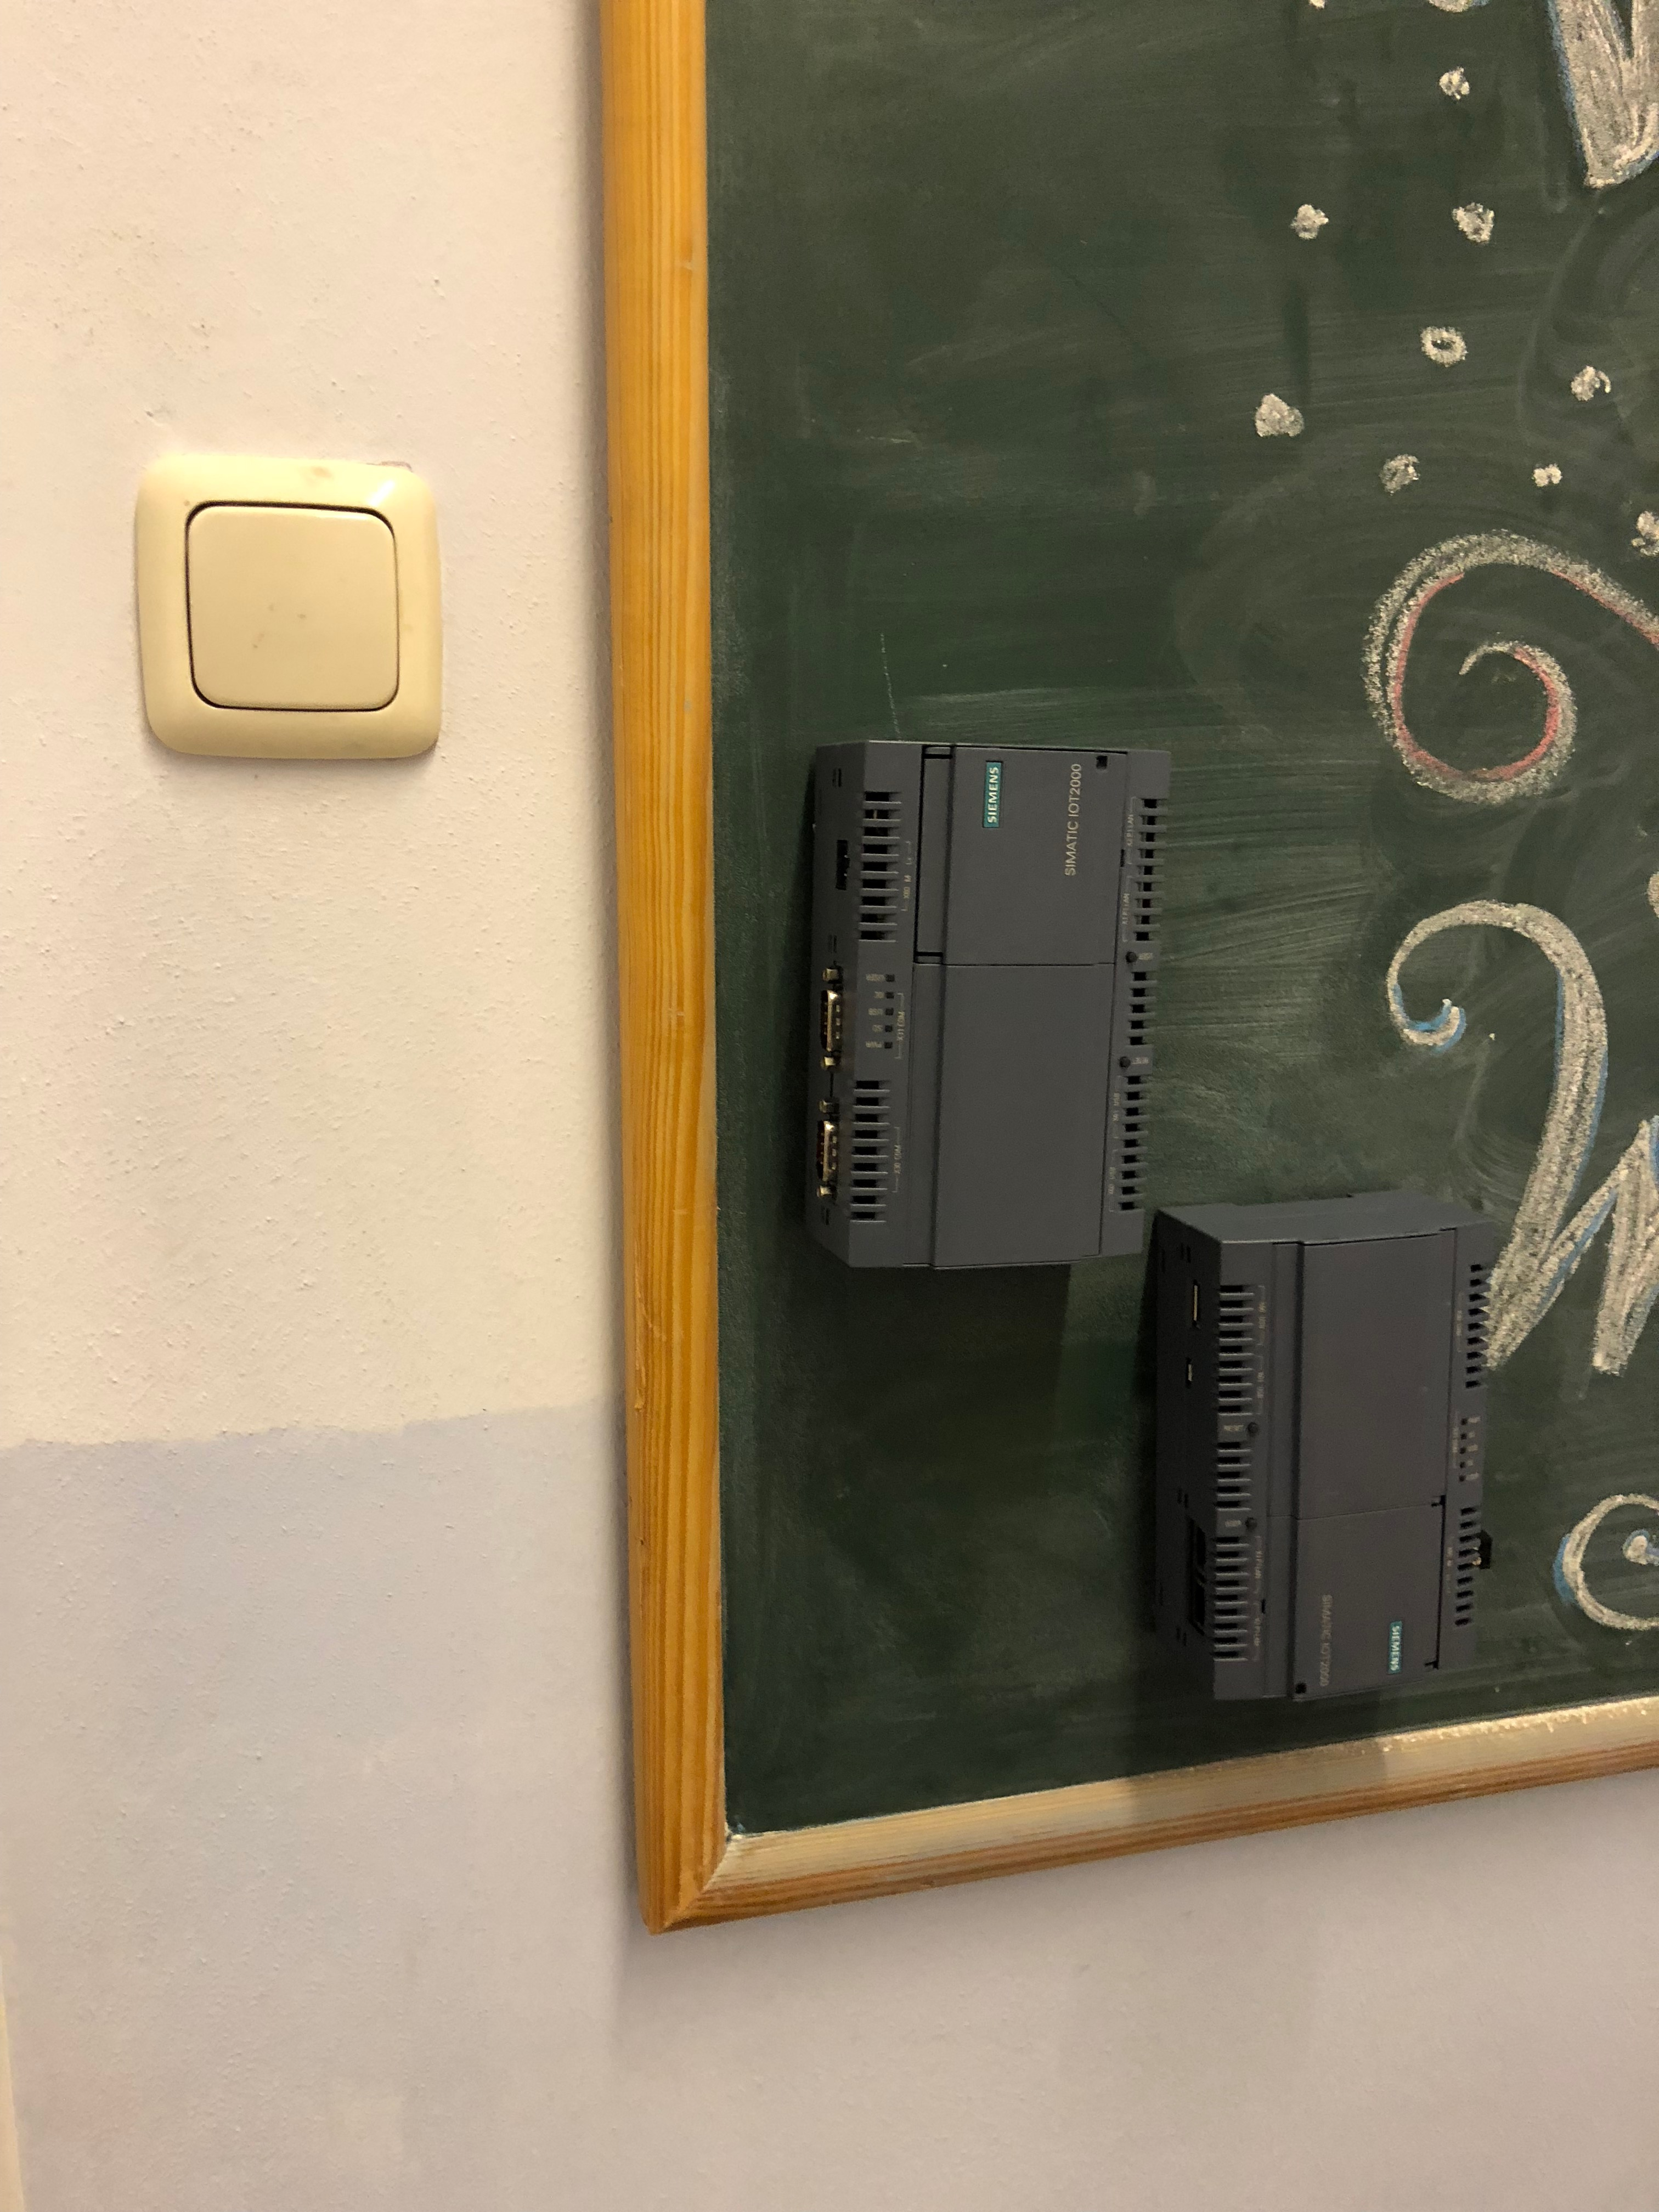device: (805, 740, 1171, 1270), (1157, 1191, 1492, 1702)
